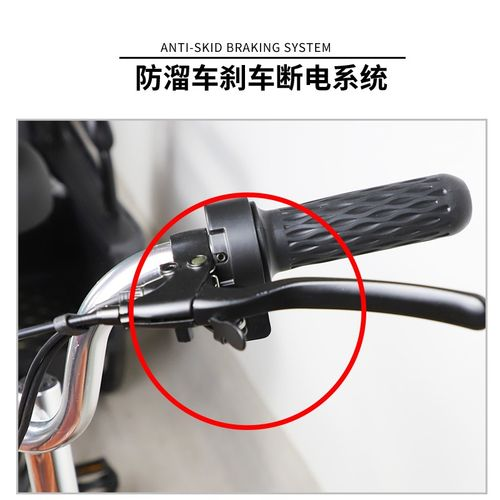empty: (30, 168, 479, 476)
